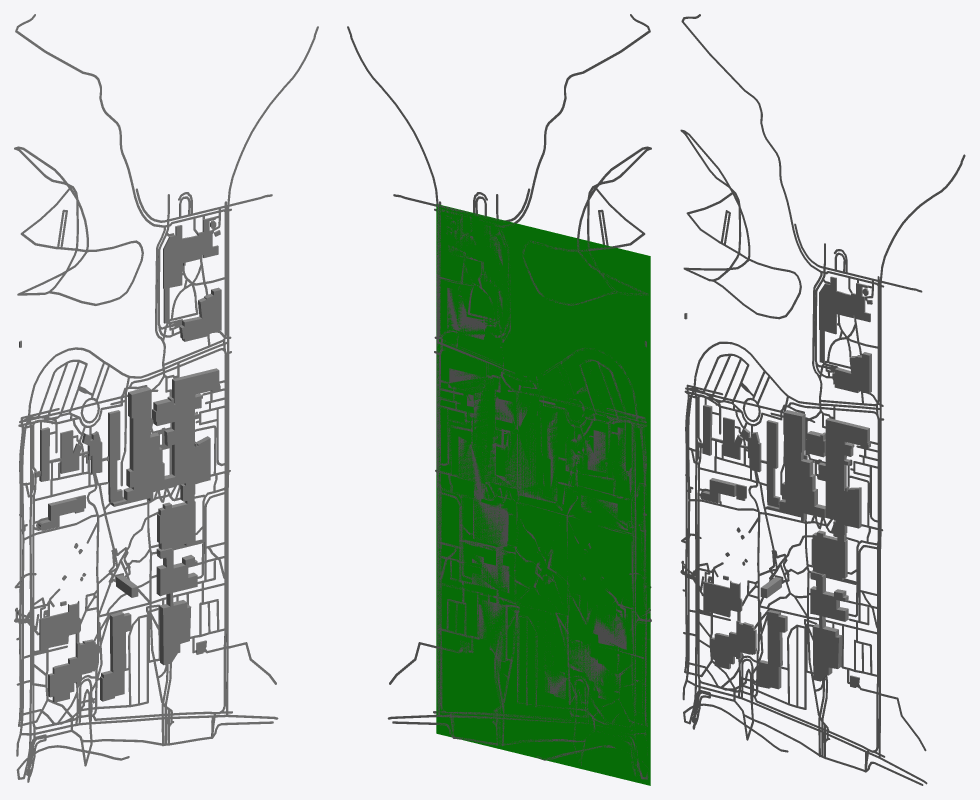
File: everything.glb
3 views of the same model, side by side, from view 1: azimuth 30°, elevation 25°; view 2: azimuth 150°, elevation 25°; view 3: azimuth 330°, elevation 25° (orthographic). The views are drawn at different scales.
Visible parts, largest first — view 1: world; view 2: world; view 3: world.
Boxes of the visible parts, <box> form: world: <box>14,14,318,782</box>; world: <box>347,14,651,785</box>; world: <box>680,14,965,785</box>.
Bounding box in the file's own units: 554 × 1334 × 50.3.
